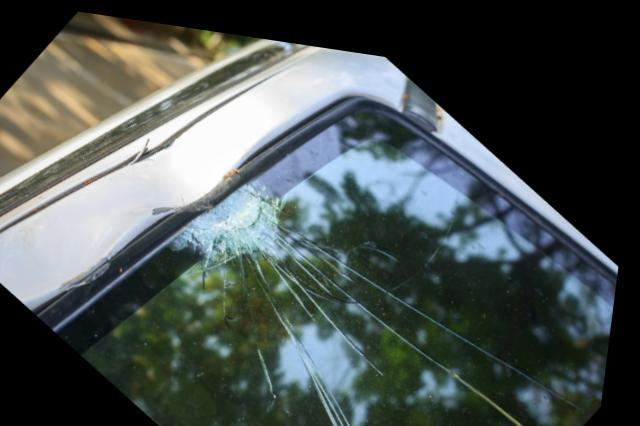dent: (15, 124, 229, 302)
glass shatter: (58, 97, 622, 426)
